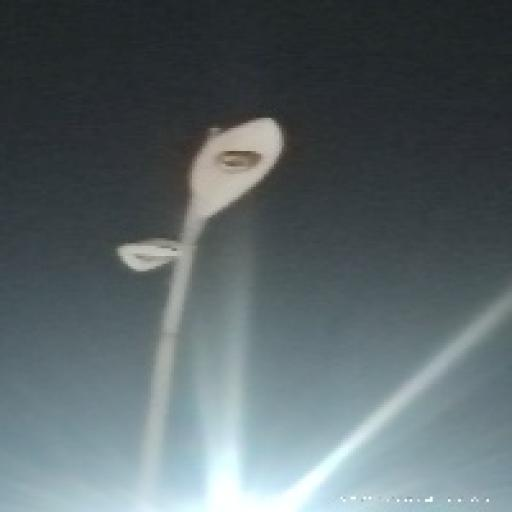Not Working: (169, 112, 305, 218), (101, 230, 191, 280)
